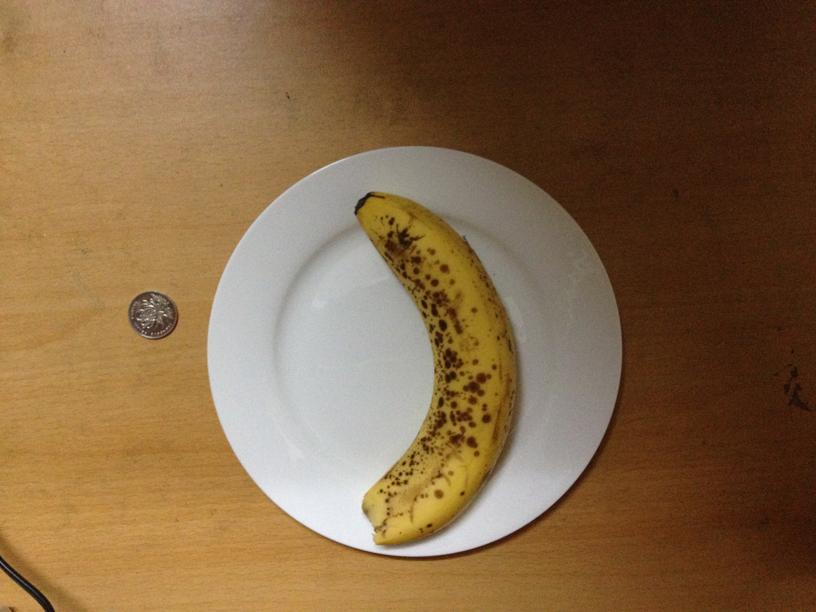banana: (343, 188, 518, 545)
coin: (125, 289, 178, 339)
